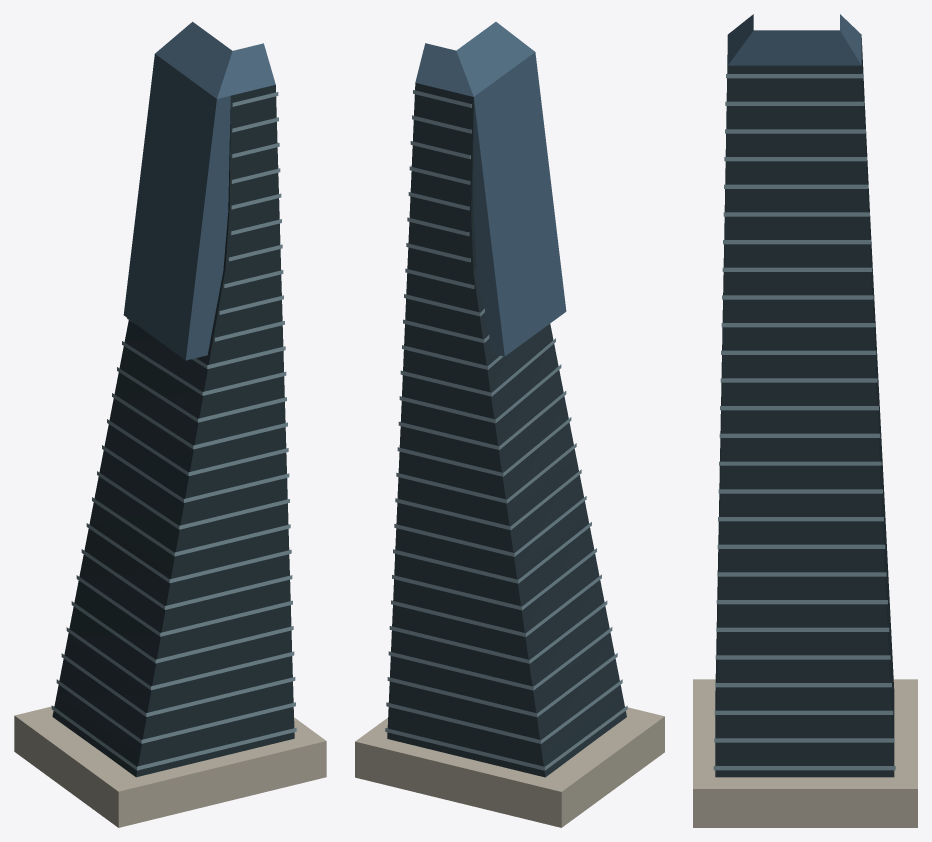
The model's file is scalpel.glb.
3 views of the same model, side by side, from view 1: azimuth 30°, elevation 25°; view 2: azimuth 150°, elevation 25°; view 3: azimuth 270°, elevation 25° (orthographic). The views are drawn at different scales.
Parts seen in each view (by area): view 1: scalpel; view 2: scalpel; view 3: scalpel.
Part boxes in pixels (box(x1,y1,x2,y2)): scalpel: box(14, 21, 326, 827); scalpel: box(355, 22, 664, 827); scalpel: box(693, 14, 917, 827).
Bounding box in the file's own units: 60 × 199 × 52.
